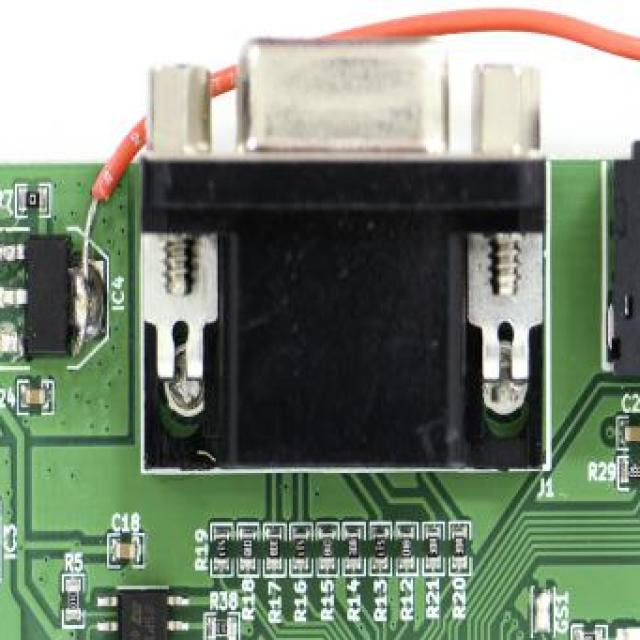IC: (27, 233, 72, 358), (114, 587, 169, 640)
capacitor: (23, 387, 46, 406), (114, 541, 137, 560), (623, 424, 640, 443)
diode: (623, 627, 640, 640)
resistor: (373, 531, 388, 567), (210, 618, 234, 639), (214, 531, 228, 567), (293, 531, 307, 567), (400, 531, 414, 567), (240, 531, 254, 567), (321, 531, 335, 567), (452, 529, 466, 565), (66, 582, 80, 616), (268, 533, 282, 567), (428, 531, 441, 565), (23, 190, 45, 209), (348, 531, 360, 565), (623, 462, 640, 481), (576, 628, 600, 640)
